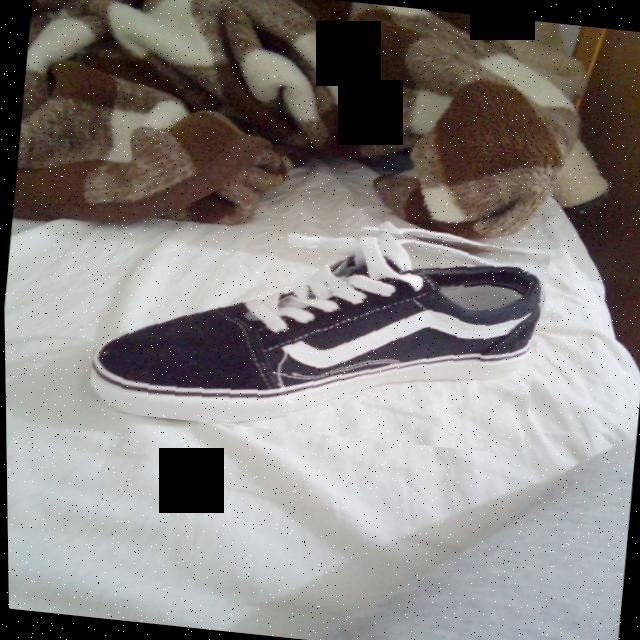shoe: (84, 192, 553, 456)
